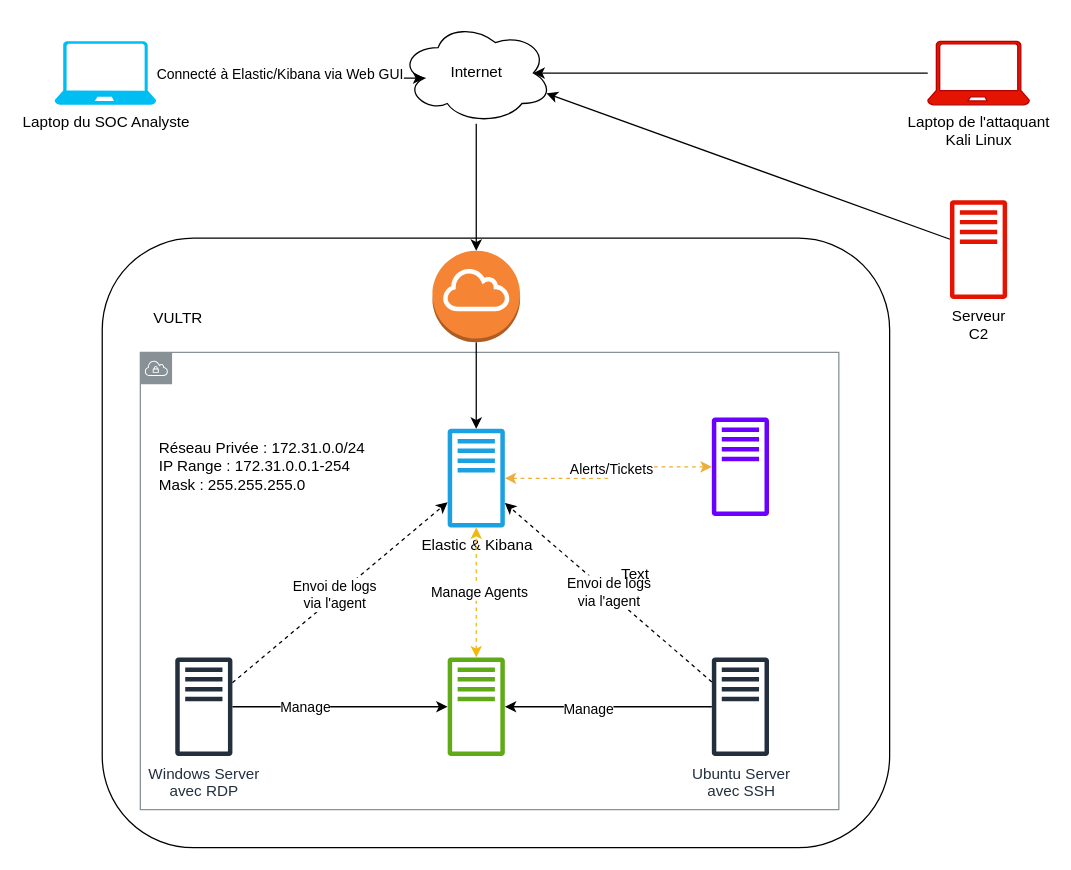
The diagram is 1071 pixels wide and 870 high, and some of its shapes have lost their labels. Here are the shapes that lost their labels. From the top down, the box of each, then its label:
(711, 416, 769, 516): Serveur de Ticketing
(139, 351, 839, 810): VPC
(446, 656, 505, 756): Fleet Server
